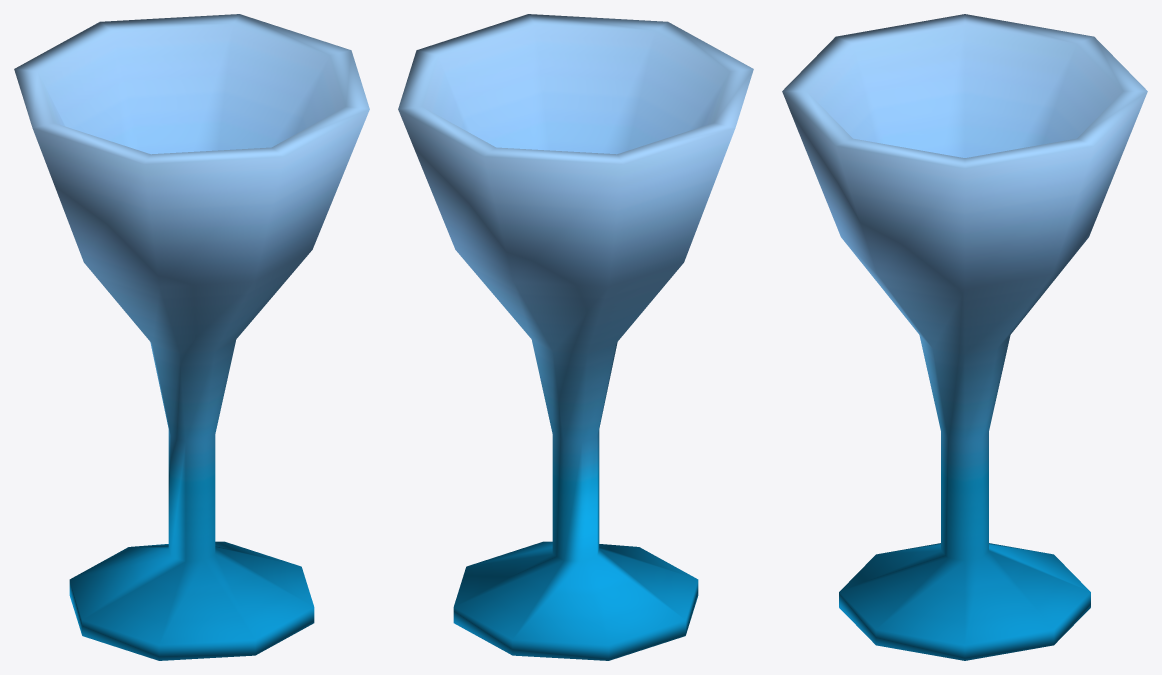
Rendered from WineGlass_01.glb.
The picture shows the model from 3 angles, left to right: view 1: azimuth 30°, elevation 25°; view 2: azimuth 150°, elevation 25°; view 3: azimuth 270°, elevation 25°; orthographic projection.
Visible parts, largest first — view 1: glass; view 2: glass; view 3: glass.
Part boxes in pixels (<box>): glass: <box>14,14,369,660</box>; glass: <box>398,14,753,660</box>; glass: <box>782,14,1147,660</box>.
Size of the model in its own units: 0.5448 by 0.8486 by 0.5448.
1 material, 1 textured.
